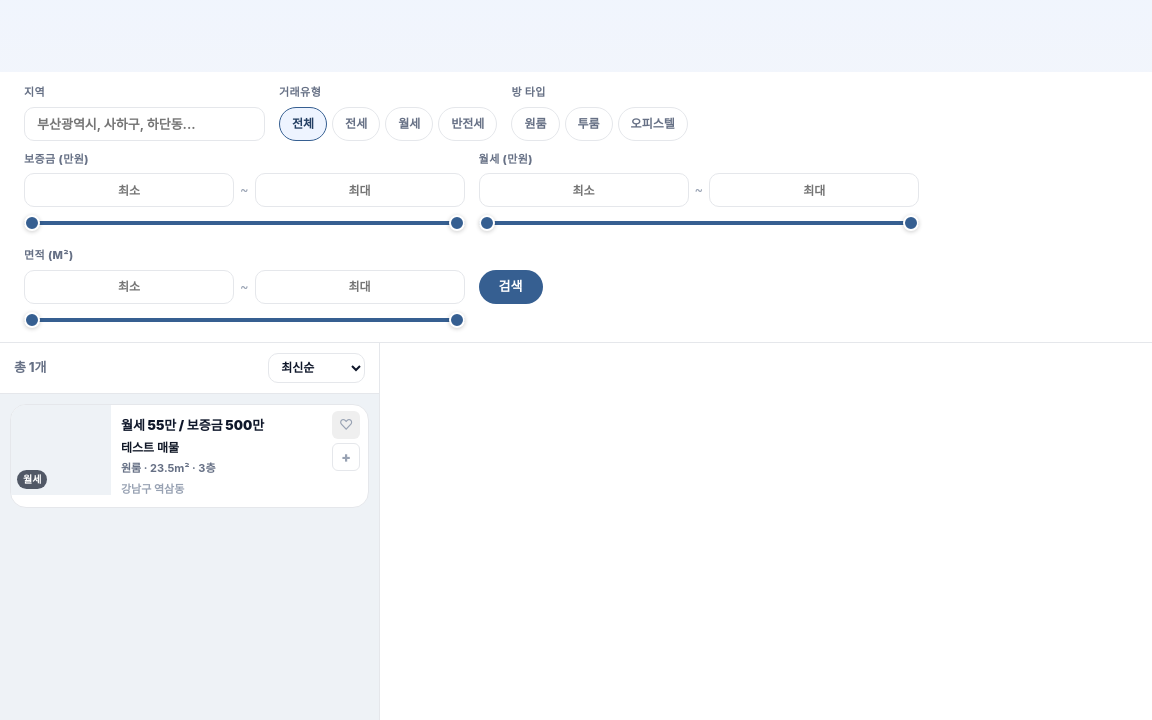
Test: MapView › 카드 select 이벤트 시 인포윈도우가 표시된다
The width and height of the screenshot is (1152, 720).
Click the element with class "map-property-card": click(190, 456) [10,404,369,508]
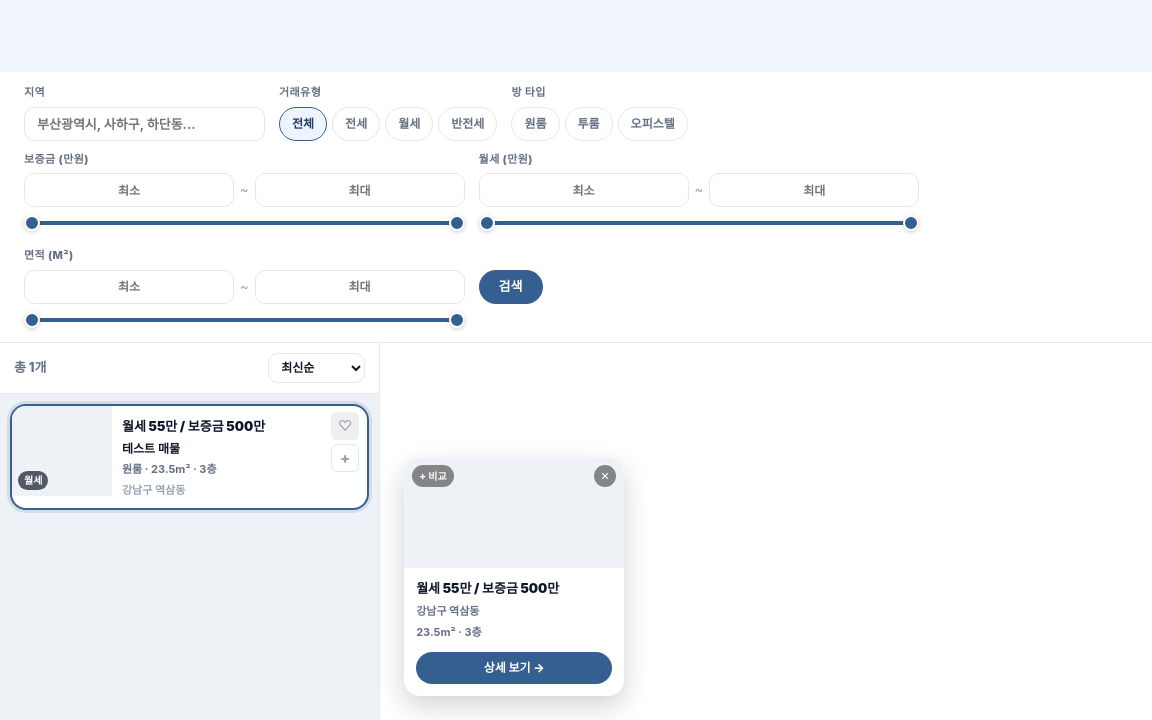
expect the element with class "info-window" is shown: met, box [404,458,624,696]
